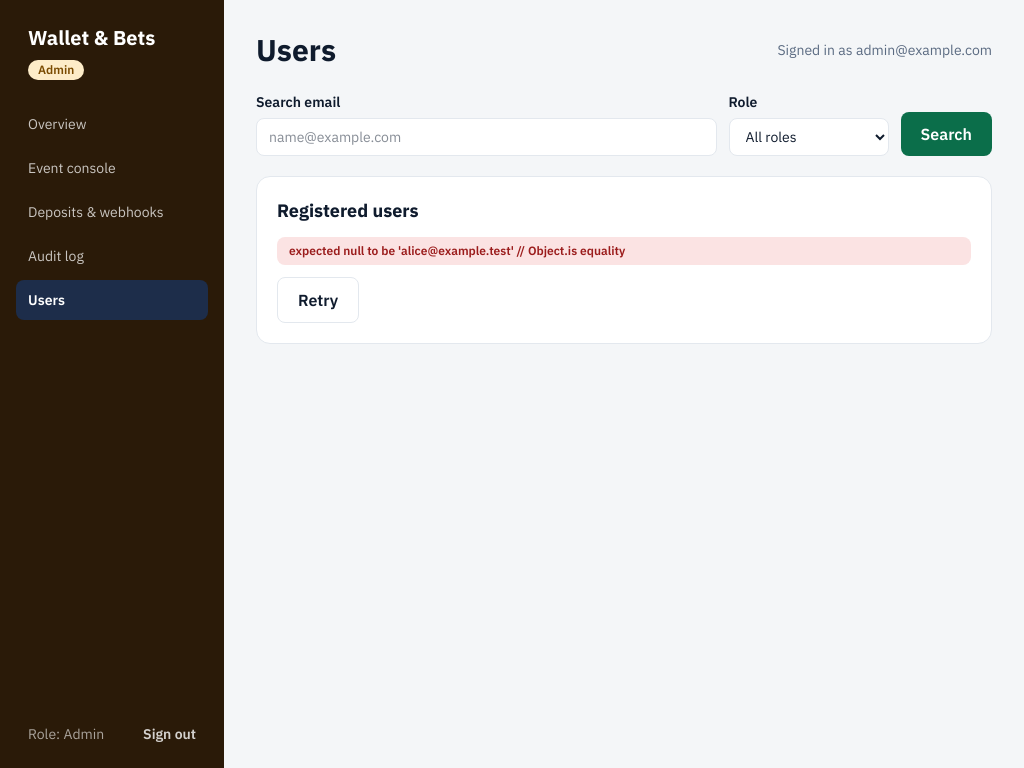
Scenario: Admin users › filters and renders users without requesting password fields
Type "alice@example.test" into the field labelled "Search email" at [486, 137], box [256,118,716,156]
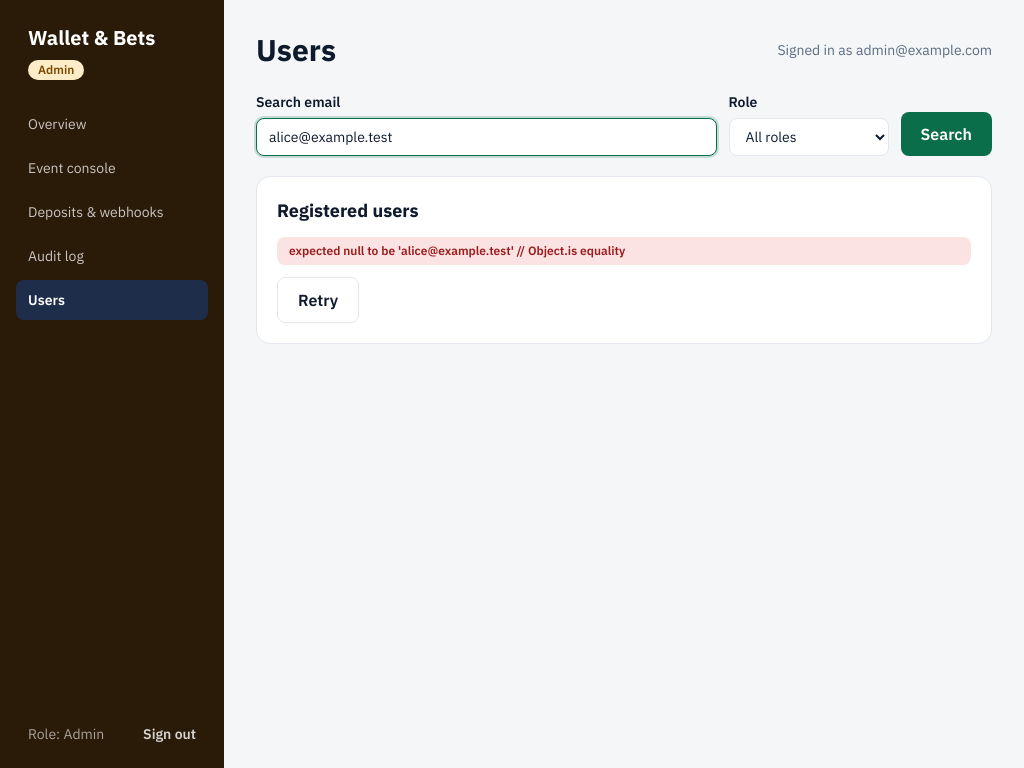
Select "User" in the dropdown labelled "Role" at [808, 137], box [728,118,888,156]
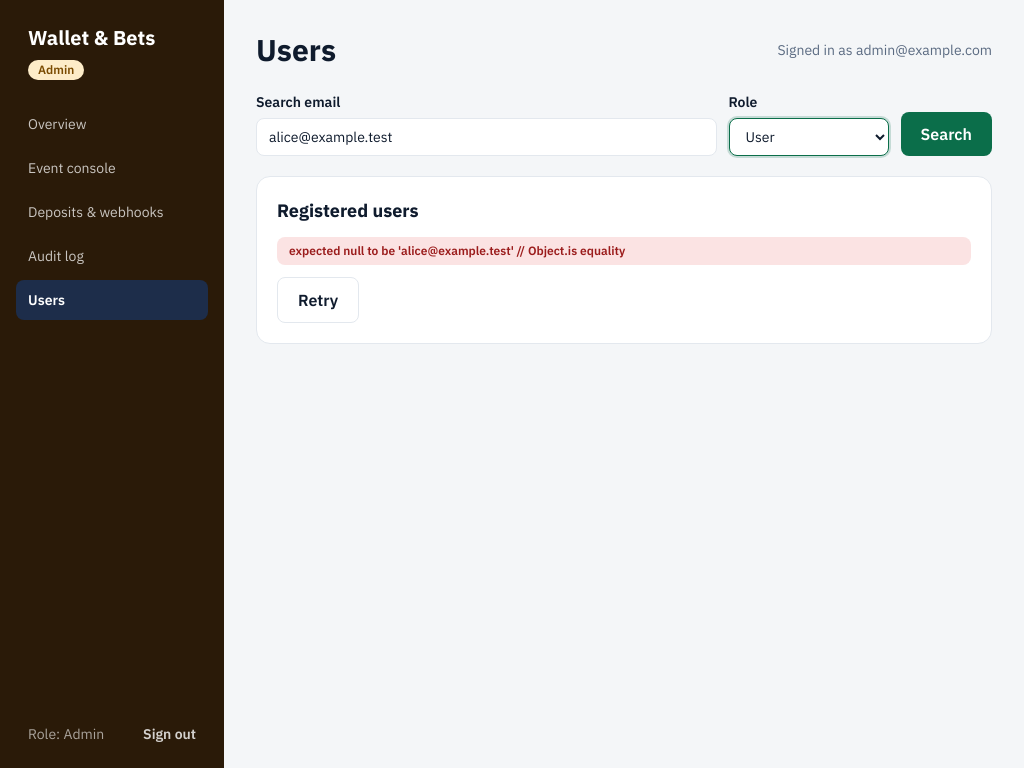
Click the button "Search" at [946, 134], box [900,112,992,156]
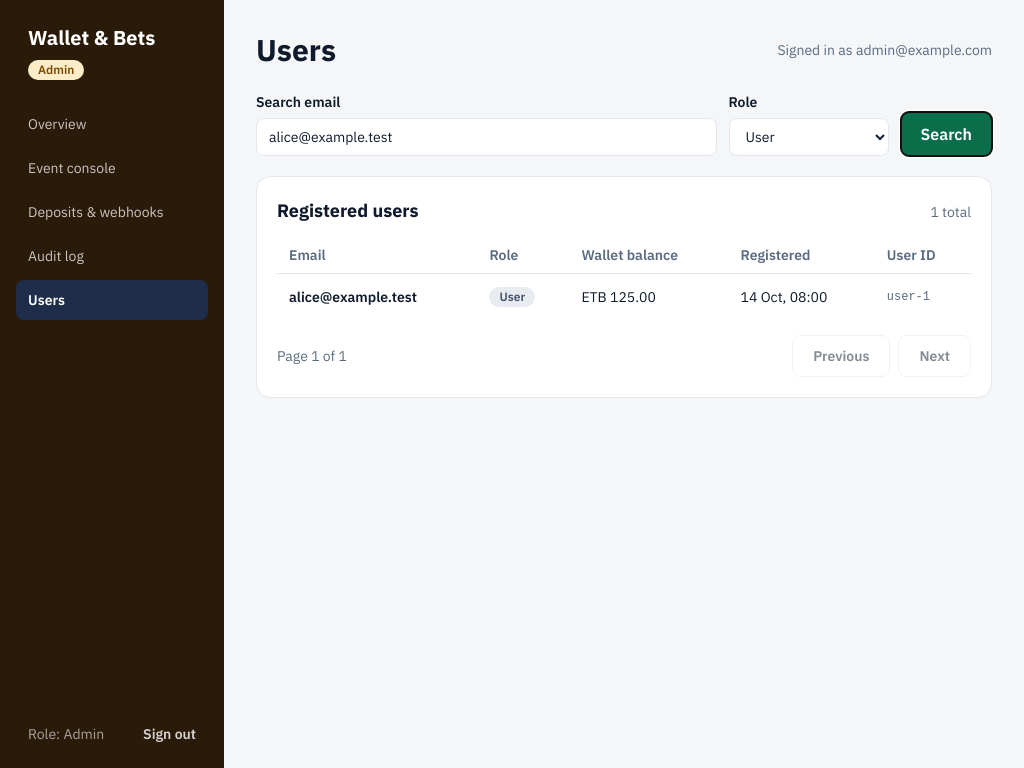
expect the text "alice@example.test" is shown: met, box [277,274,478,319]
expect the text "ETB 125.00" is shown: met, box [569,274,729,319]
